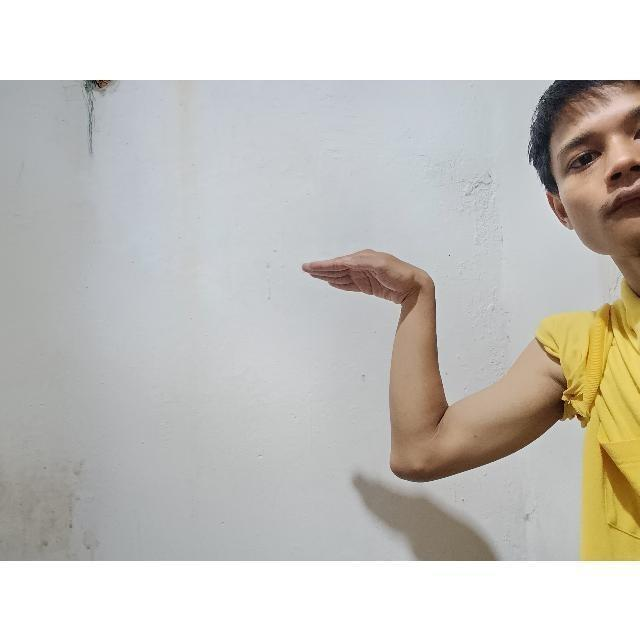Z: (282, 214, 514, 546)
